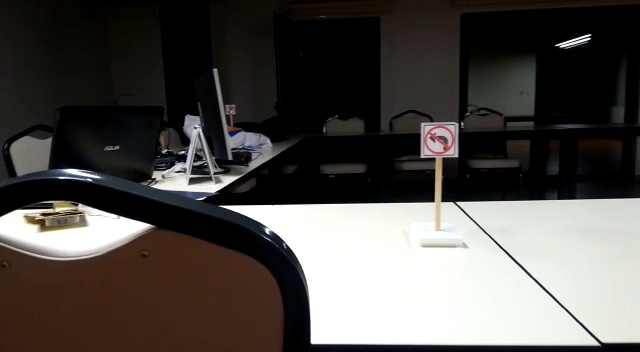sola_donulmez: (420, 121, 458, 159)
